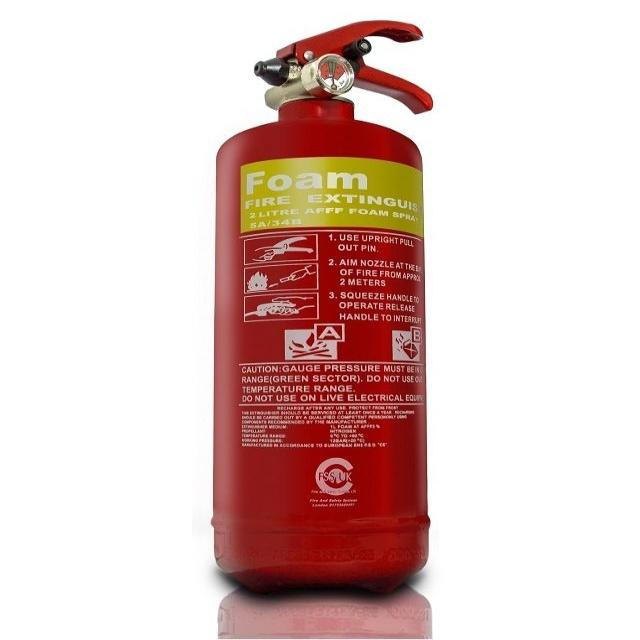fire_extinguisher: (198, 14, 444, 601)
